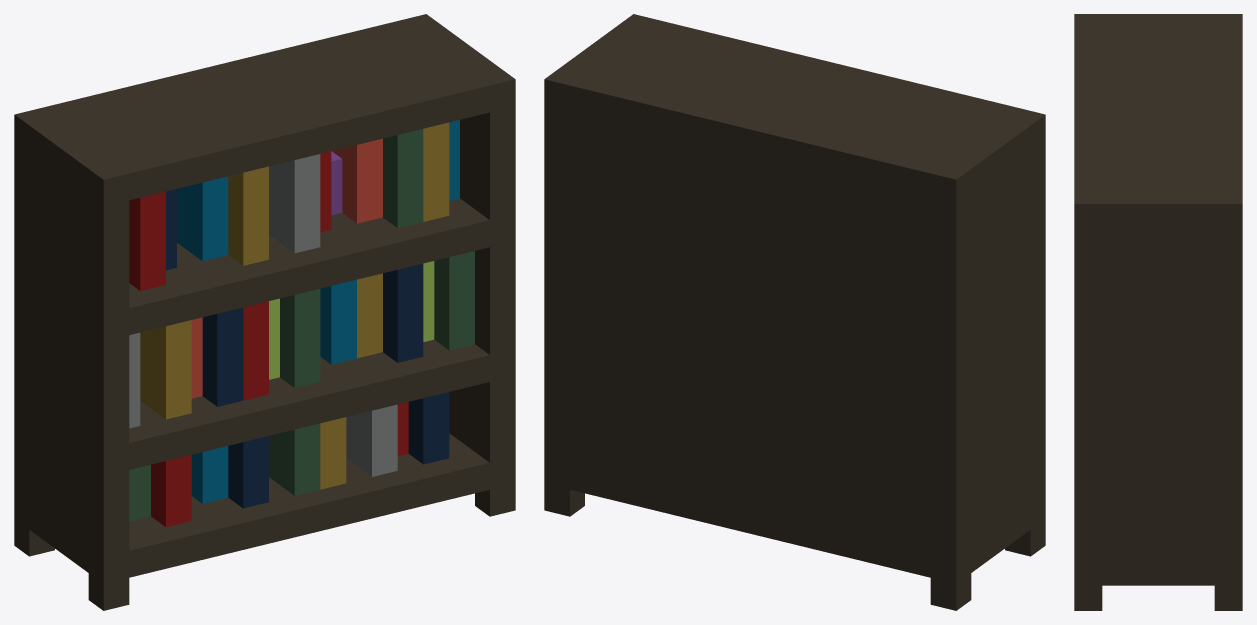
File: Schaf.obj
3 renders of one model, left to right at view 1: azimuth 30°, elevation 25°; view 2: azimuth 150°, elevation 25°; view 3: azimuth 270°, elevation 25°, orthographic. The views are drawn at different scales.
Bounding box in the file's own units: 1.6 × 1.6 × 0.6.
Materials: 1 (1 with a texture image).
